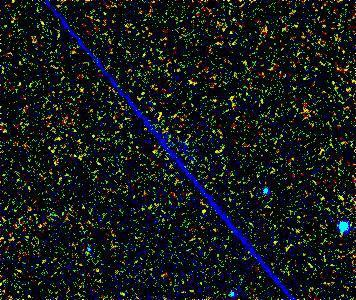star: (190, 197, 220, 227)
